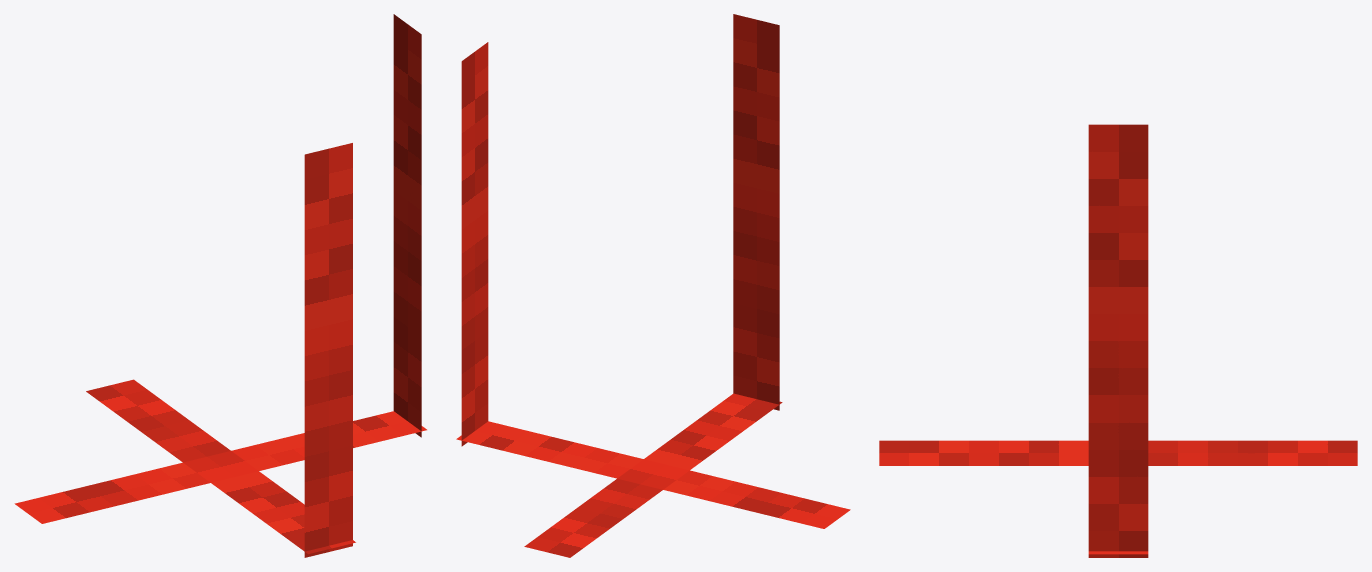
Rendered from dust_on_2121.gltf.
3 renders of one model, left to right at view 1: azimuth 30°, elevation 25°; view 2: azimuth 150°, elevation 25°; view 3: azimuth 270°, elevation 25°, orthographic. The views are drawn at different scales.
Visible parts, largest first — view 1: dust_on_2121; view 2: dust_on_2121; view 3: dust_on_2121.
Boxes of the visible parts, x1=… form: dust_on_2121: x1=14, y1=14, x2=426, y2=557; dust_on_2121: x1=456, y1=14, x2=850, y2=557; dust_on_2121: x1=879, y1=124, x2=1357, y2=557.
Size of the model in its own units: 1 by 1 by 1.
1 material, 1 textured.
